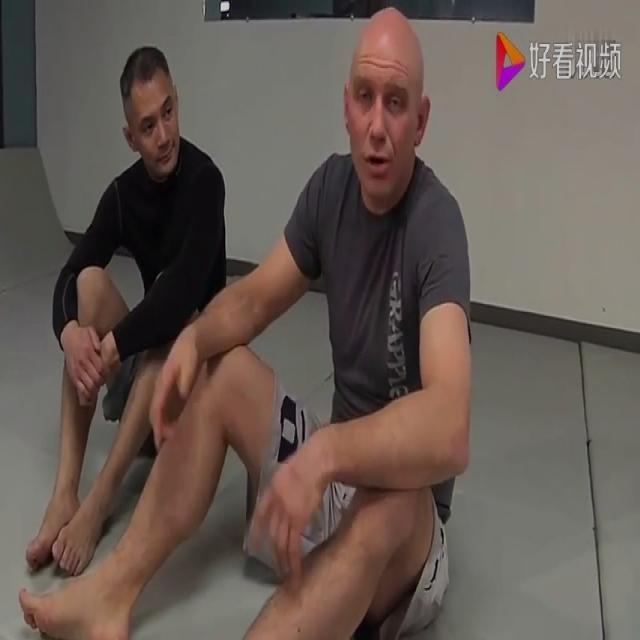non-fight: (23, 5, 483, 640)
